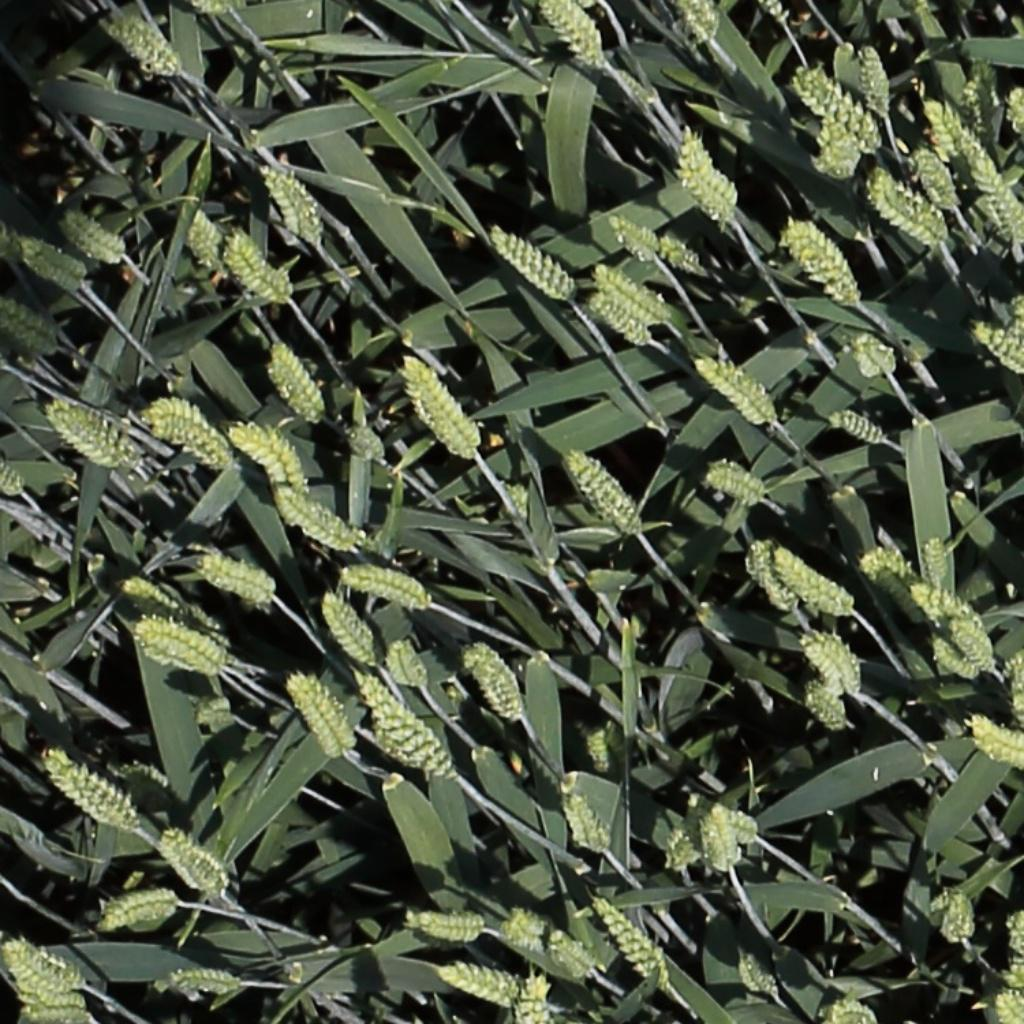0-0: (348, 674, 450, 779), (117, 578, 230, 670), (32, 736, 135, 834), (397, 352, 479, 454), (588, 892, 670, 992), (562, 446, 643, 539), (790, 68, 880, 150), (780, 218, 861, 304), (42, 388, 131, 466), (487, 223, 574, 301), (283, 671, 353, 763), (223, 420, 305, 495), (692, 353, 774, 425), (505, 905, 592, 971), (771, 548, 853, 617), (674, 124, 729, 226), (868, 170, 943, 244), (460, 640, 524, 726), (263, 337, 324, 427), (154, 827, 225, 902), (255, 158, 316, 245), (315, 589, 378, 673), (270, 486, 352, 550), (963, 703, 1024, 789), (221, 229, 288, 304), (537, 1, 604, 72), (862, 554, 928, 626), (271, 165, 324, 252), (972, 155, 1024, 243), (585, 277, 658, 337), (589, 262, 664, 320), (145, 395, 230, 446), (105, 15, 176, 76), (2, 940, 80, 995), (18, 973, 99, 1024), (907, 582, 989, 632), (745, 536, 795, 618), (140, 629, 224, 677), (412, 398, 475, 462), (809, 629, 862, 703), (795, 632, 851, 700), (909, 141, 962, 210), (558, 787, 607, 861), (587, 290, 651, 346), (58, 208, 122, 262), (193, 555, 271, 599), (943, 874, 988, 950), (804, 129, 866, 184), (335, 570, 427, 607), (402, 897, 489, 935), (918, 92, 961, 166), (16, 234, 86, 279), (435, 965, 517, 1003), (969, 319, 1024, 375), (939, 622, 992, 679), (700, 458, 770, 501), (966, 53, 998, 147), (857, 38, 892, 121), (0, 296, 57, 346), (602, 210, 659, 260), (800, 678, 849, 735), (181, 204, 221, 271), (927, 634, 980, 684), (383, 634, 427, 694), (703, 800, 735, 880), (731, 947, 778, 1000), (651, 233, 707, 275), (342, 417, 386, 468), (94, 899, 173, 927), (675, 0, 720, 49), (497, 473, 536, 527), (827, 408, 886, 443), (607, 65, 655, 107), (581, 722, 614, 783), (662, 821, 696, 877), (851, 335, 894, 378), (921, 528, 948, 595), (712, 806, 759, 842), (518, 968, 548, 1024), (1, 447, 27, 499), (165, 976, 238, 991), (1004, 86, 1024, 140), (1006, 907, 1024, 965), (1008, 689, 1024, 749), (998, 960, 1024, 996), (826, 1002, 872, 1022), (1010, 645, 1024, 708)
